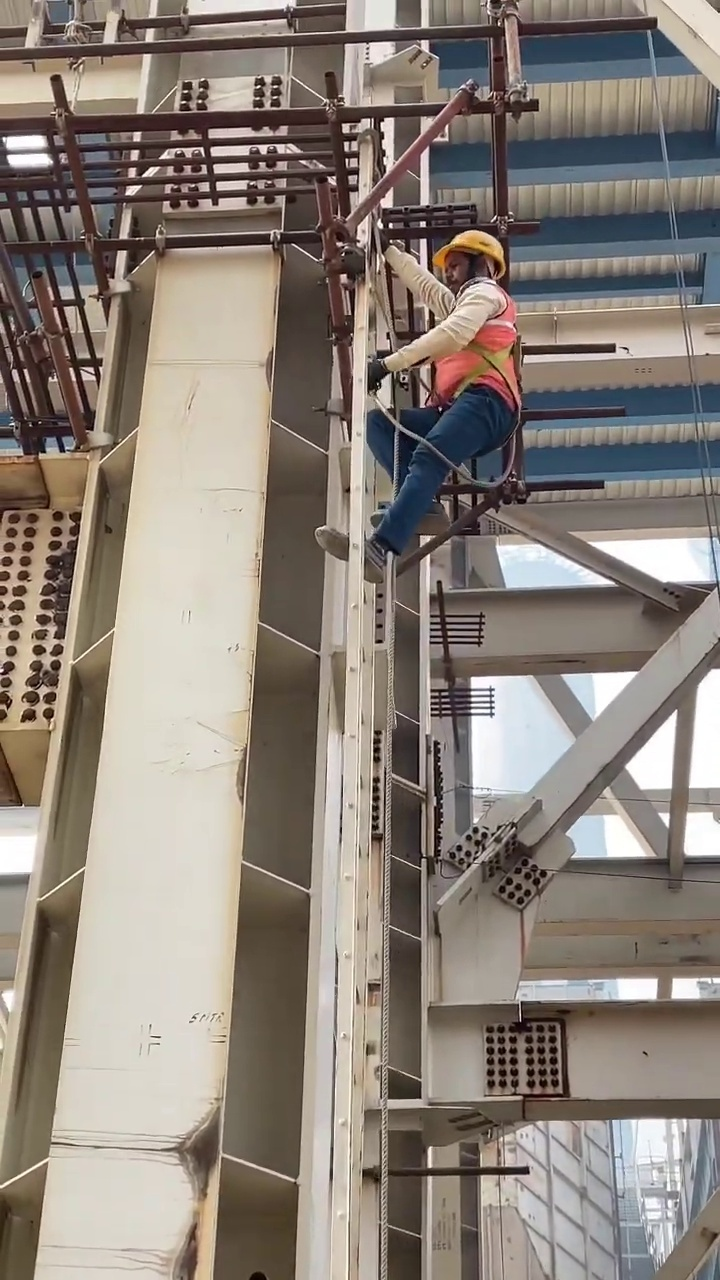Helmet: (436, 227, 508, 264)
Person: (306, 227, 525, 581)
Safety_Harness: (412, 279, 527, 485)
Safety_shoes: (314, 523, 387, 580), (381, 506, 448, 538)
